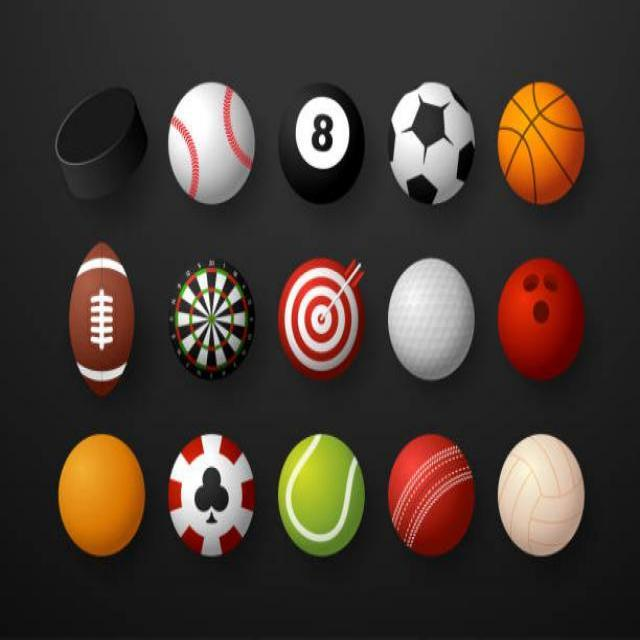oball: (58, 432, 142, 553)
